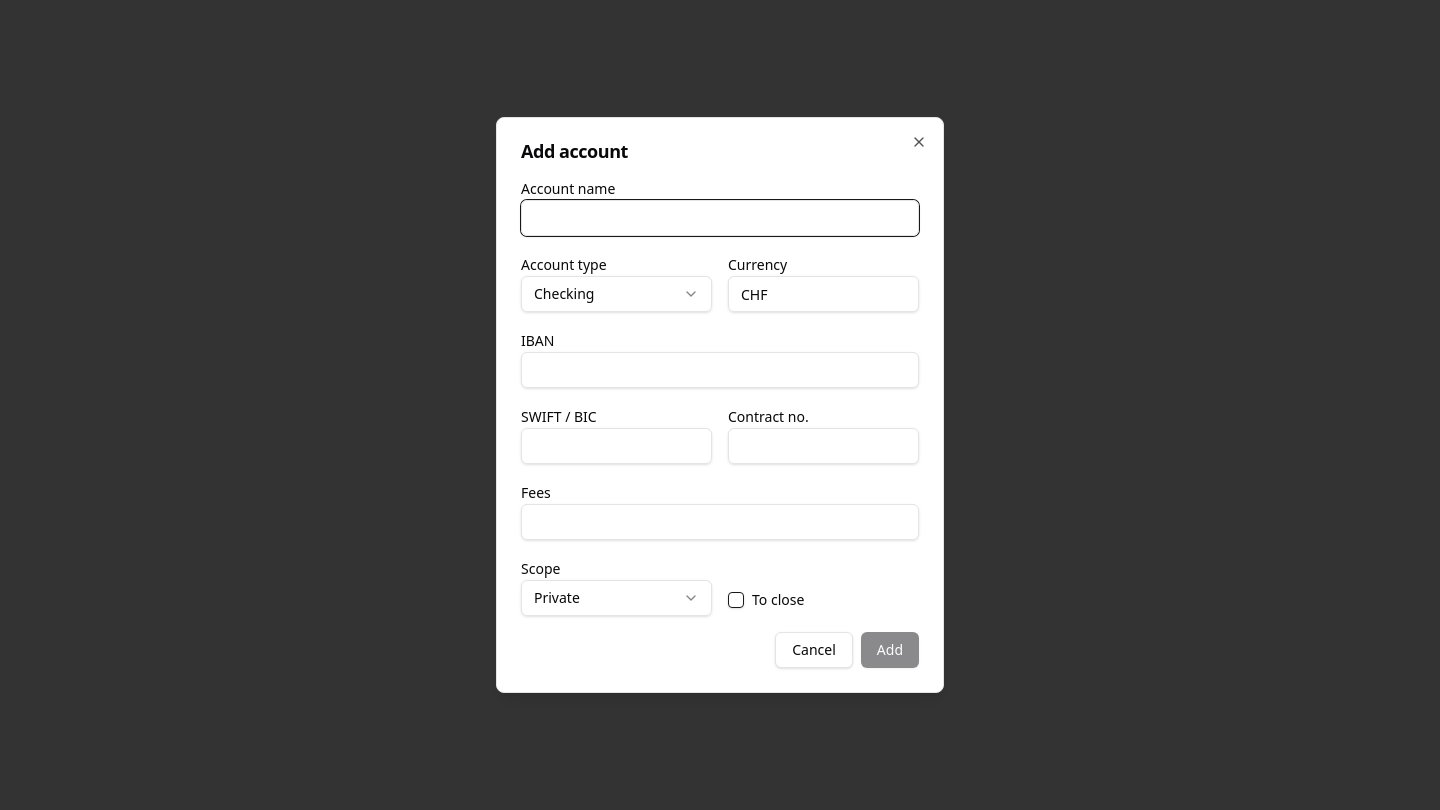
AccountDialog › shows the server-side IBAN validation error inline
The width and height of the screenshot is (1440, 810).
Type "Neues Konto" into the field labelled "Account name". click: (720, 218)
box: [521, 200, 919, 236]
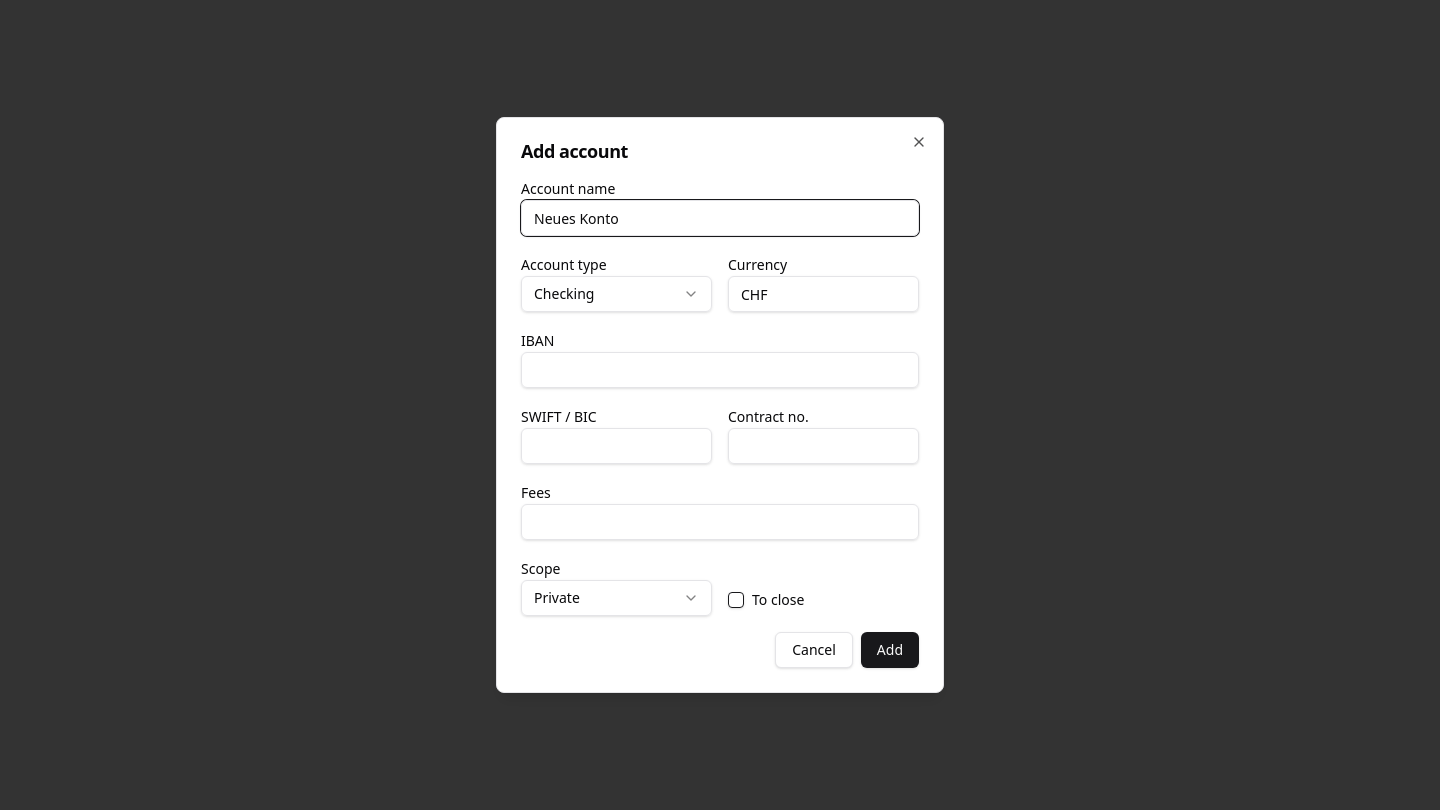
Click the button "Add". click: (890, 650)
box: [861, 632, 919, 668]
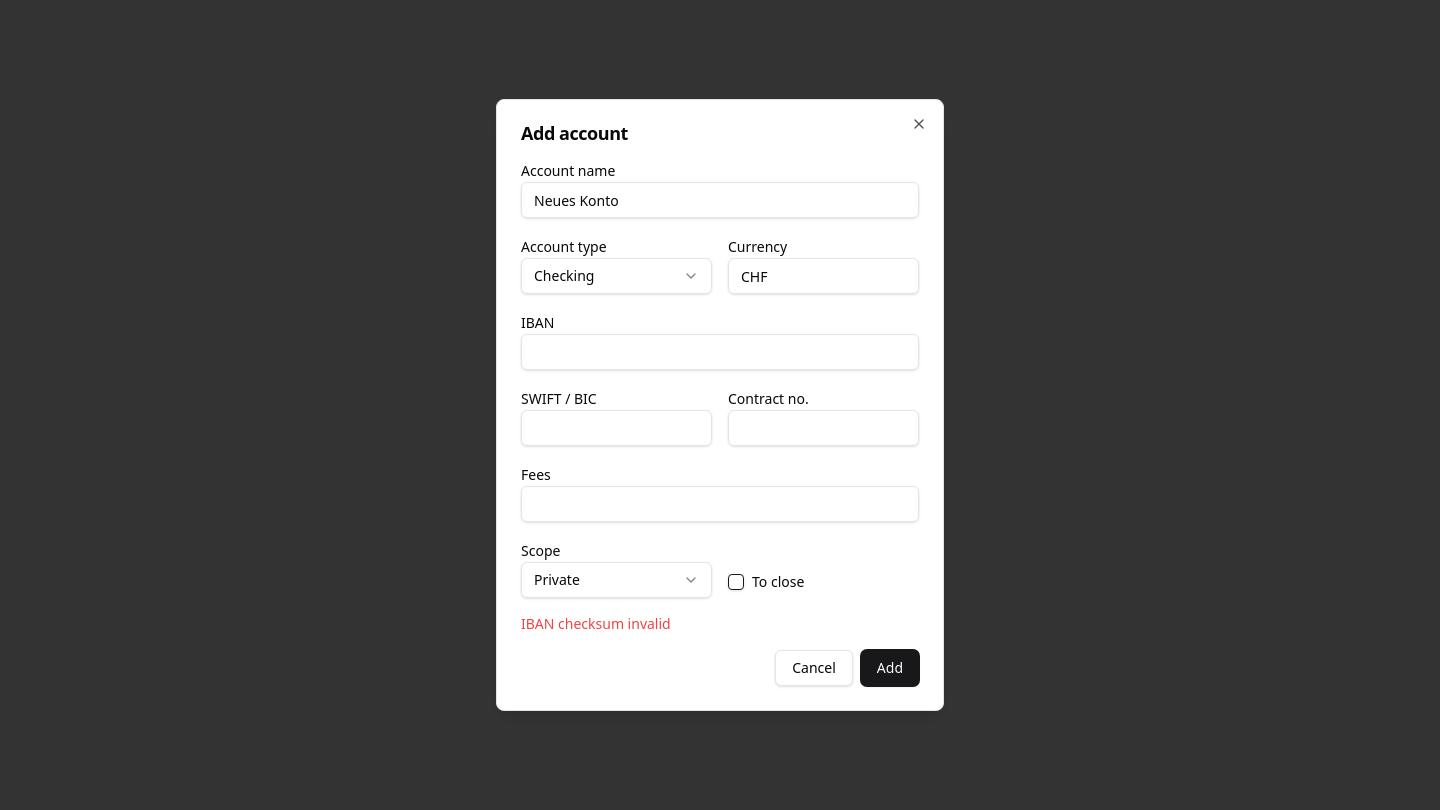
Check: the text "IBAN checksum invalid" is shown, box [521, 614, 671, 633]
